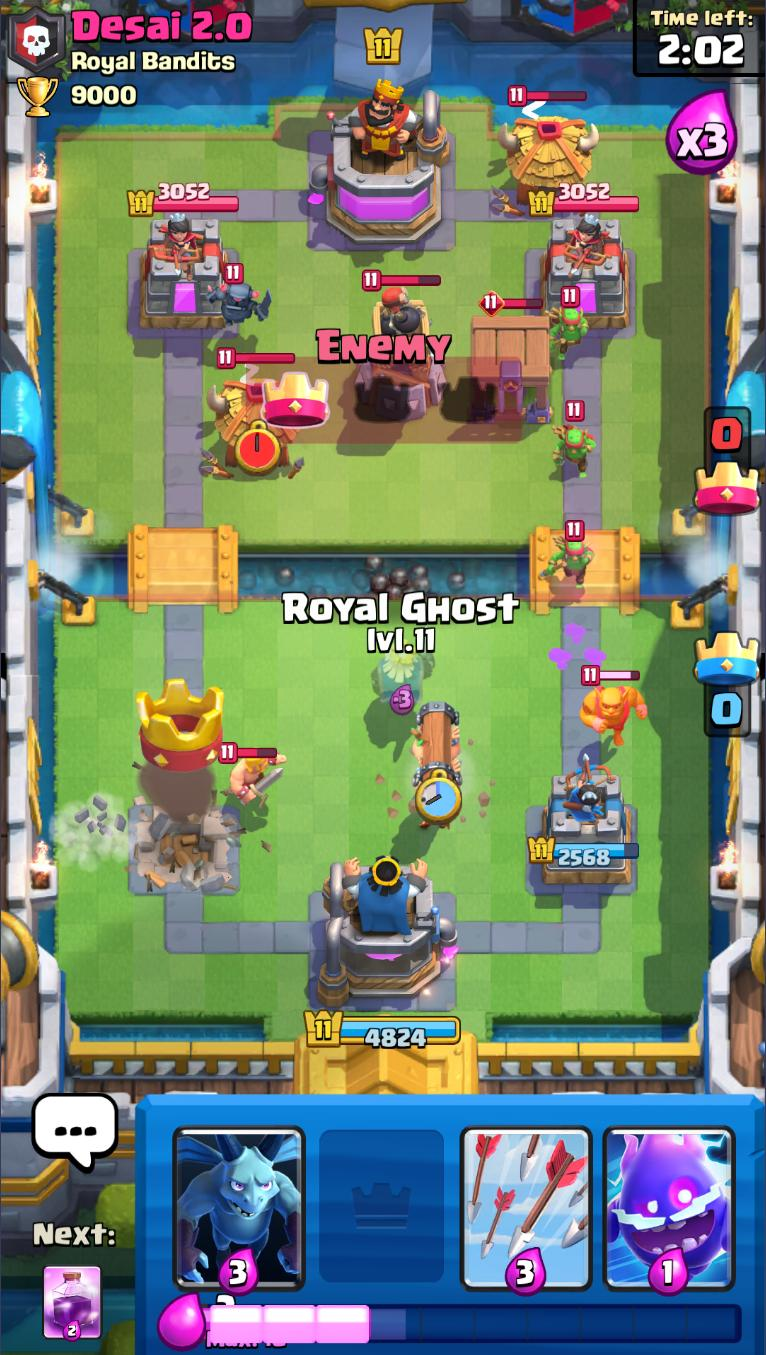ArrowDeck: (454, 1097, 600, 1294)
Barbarian: (218, 742, 287, 804)
BombTower: (353, 269, 449, 418)
ElectroSpiritDeck: (600, 1097, 744, 1294)
Elixir: (202, 1295, 745, 1352)
Empty: (311, 1097, 454, 1295)
EnemyTower: (137, 214, 231, 333), (538, 214, 632, 331)
EvoGoblinCage: (464, 289, 554, 429)
GoblinCageGoblin: (579, 664, 646, 750)
GoblinHut: (496, 85, 607, 213), (203, 347, 297, 471)
KingTower: (309, 80, 454, 248)
MiniPekka: (203, 265, 273, 328)
MinionsDeck: (165, 1096, 307, 1295)
MyBattleRam: (407, 701, 463, 832)
MyKingHP: (302, 1006, 463, 1051)
MyKingTower: (318, 855, 460, 1009)
MyPrincessTower: (526, 768, 642, 889)
MyPrincessTowerBrocken: (126, 788, 242, 893)
MyPrincessTowerHP: (527, 835, 642, 867)
PrincessTower: (549, 214, 604, 275), (152, 214, 202, 273)
RageNext: (43, 1263, 103, 1344)
SpearGoblin: (540, 518, 595, 593), (550, 399, 597, 483), (542, 286, 588, 363)
TowerPrincessHP: (127, 180, 241, 217), (527, 181, 640, 216)
